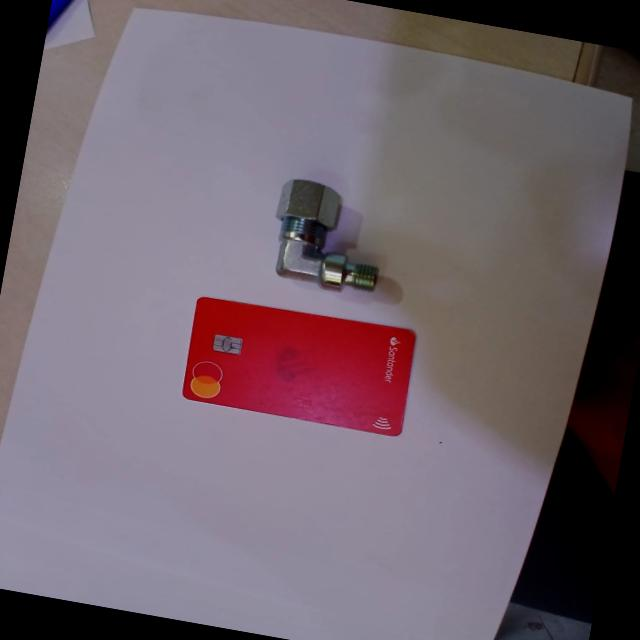cartao: (180, 294, 416, 437)
rosca_externa: (266, 176, 392, 298)
